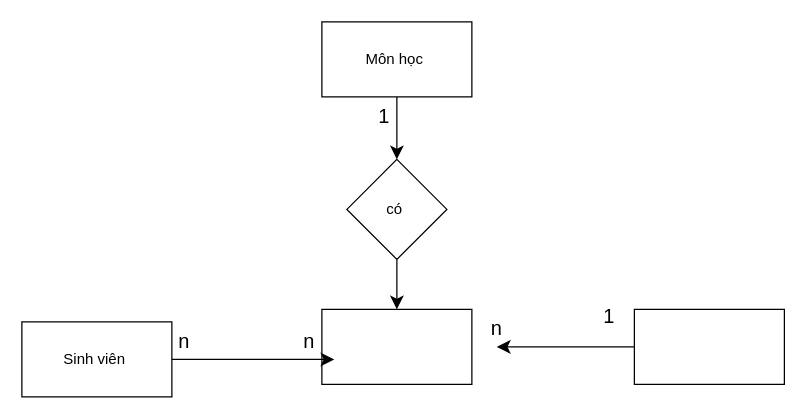
The diagram is 806 pixels wide and 419 high, and some of its shapes have lost their labels. The shapes that lost their labels are listed below. From the top down, each one's box as (x1, y1, x2, y2) in pixels, then its label:
(321, 308, 472, 384): Hoc phần
(633, 308, 784, 384): gaing vien
